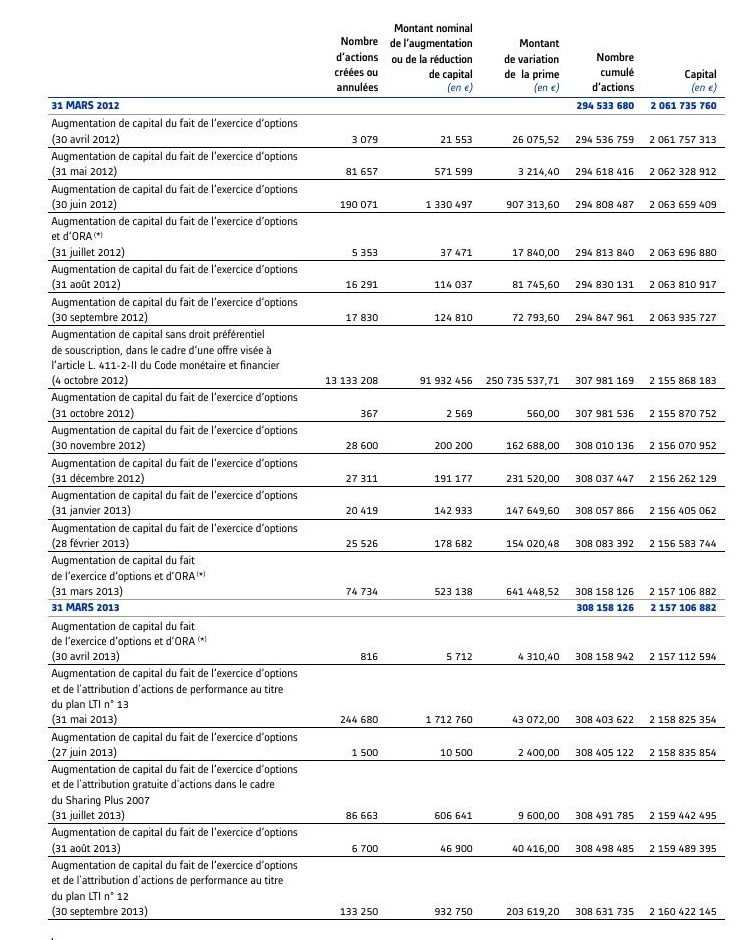table: (0, 0, 753, 940)
